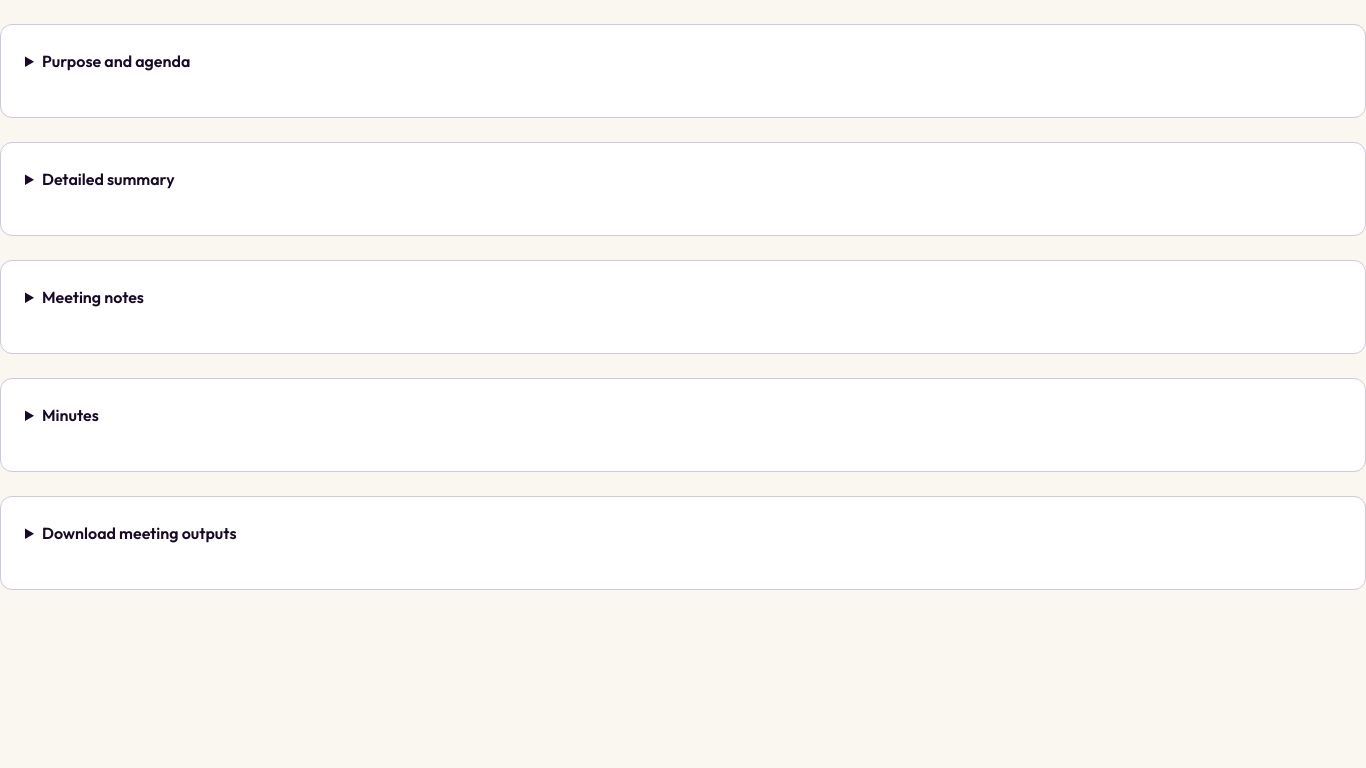
Test: surfaces secondary discussions, canonical evidence and separate notes/minutes
Click the heading "Detailed summary": (108, 179) [42,169,175,189]
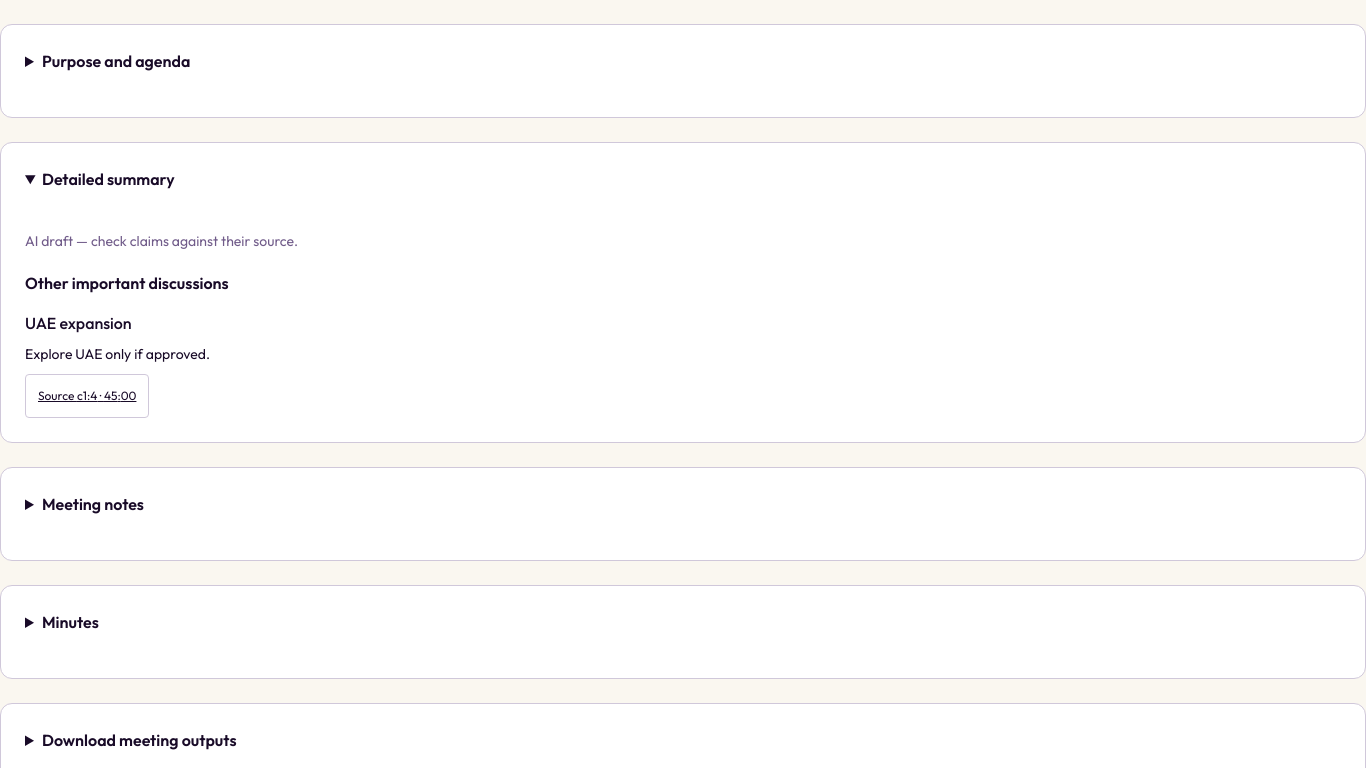
Expected: the heading "Other important discussions" is shown, [25,273,229,293]
